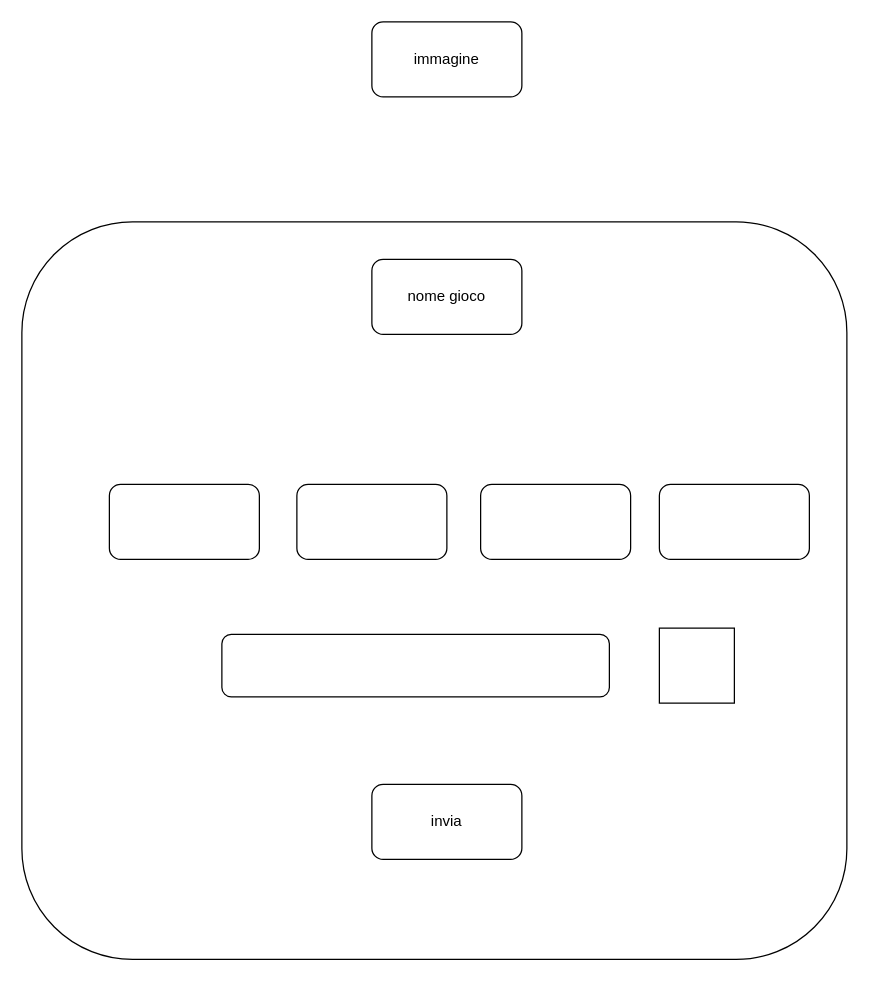
The diagram is 869 pixels wide and 981 high, and some of its shapes have lost their labels. The shapes that lost their labels are listed below. From the top down, each one's box as (x1, y1, x2, y2) in pixels, then its label:
(221, 633, 609, 697): cod generato
(658, 627, 734, 703): icon per generare un altro codice
